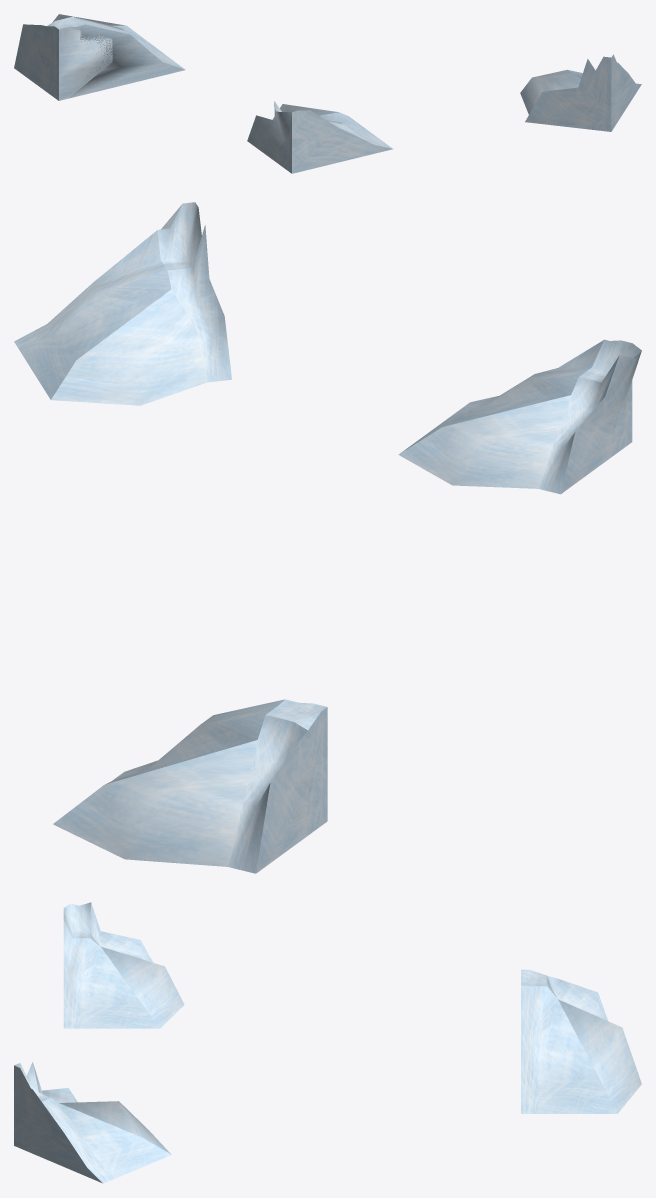
Rendered from Ice Mountains.FBX.
3 views of the same model, one above another, from view 1: azimuth 30°, elevation 25°; view 2: azimuth 150°, elevation 25°; view 3: azimuth 270°, elevation 25° (orthographic). The views are drawn at different scales.
Visible parts, largest first — view 1: Ice mounds; view 2: Ice mounds; view 3: Ice mounds.
Part boxes in pixels (x1,y1,x2,y2): Ice mounds: (14, 14, 641, 173); Ice mounds: (14, 202, 641, 873); Ice mounds: (14, 902, 641, 1183).
Size of the model in its own units: 276 by 96.01 by 356.
Materials: 1 (1 with a texture image).
